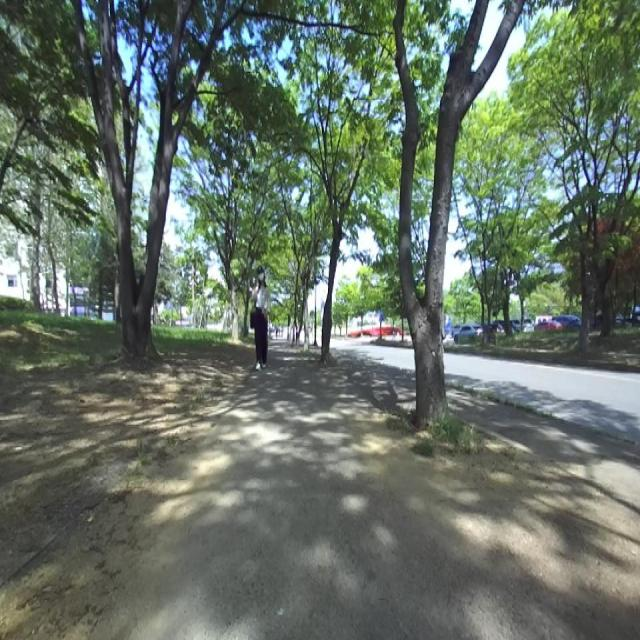sidewalk: (0, 343, 640, 639)
